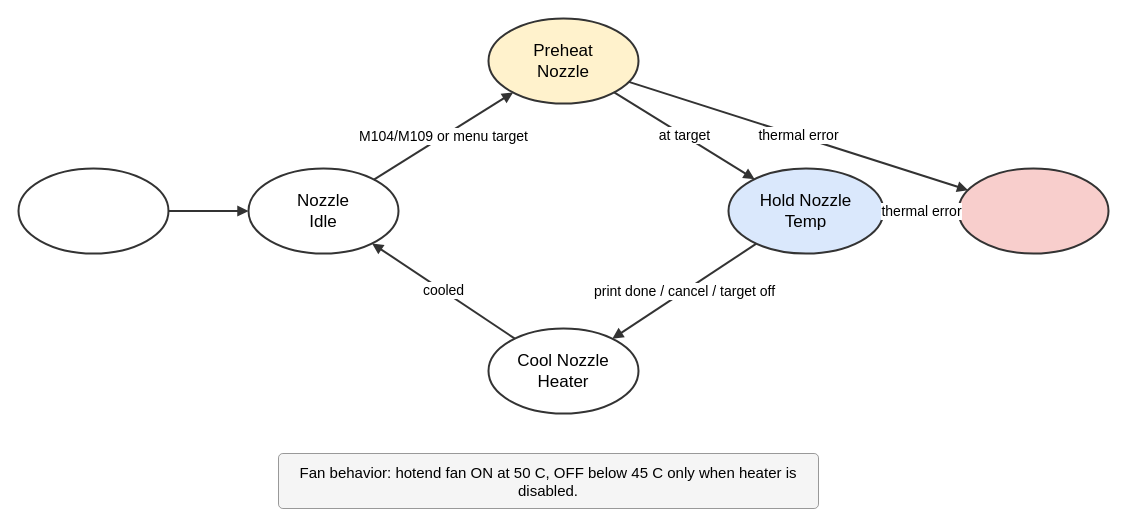
Some shapes in this 1126 by 526 pixel diagram are drawn without their labels. The box of each missing label's shape, as (x1, y1, x2, y2) in pixels:
Initialize Nozzle Heater: (17, 167, 169, 254)
Nozzle Fault: (957, 167, 1109, 254)
